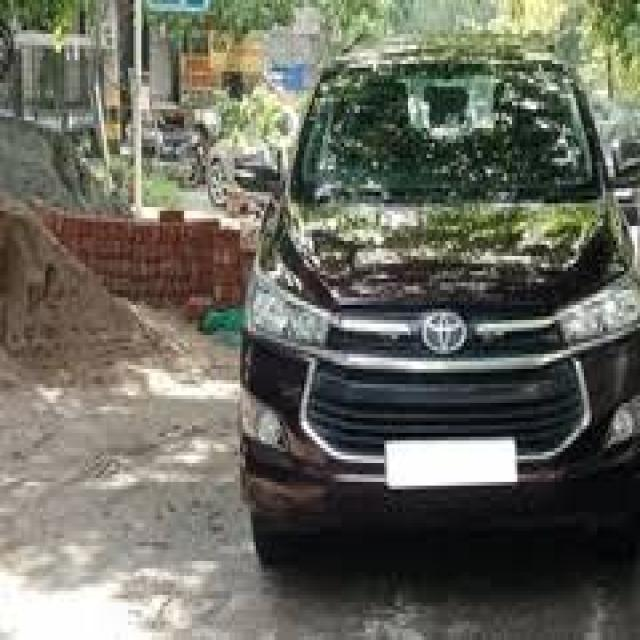light_vehicle: (240, 39, 640, 566)
